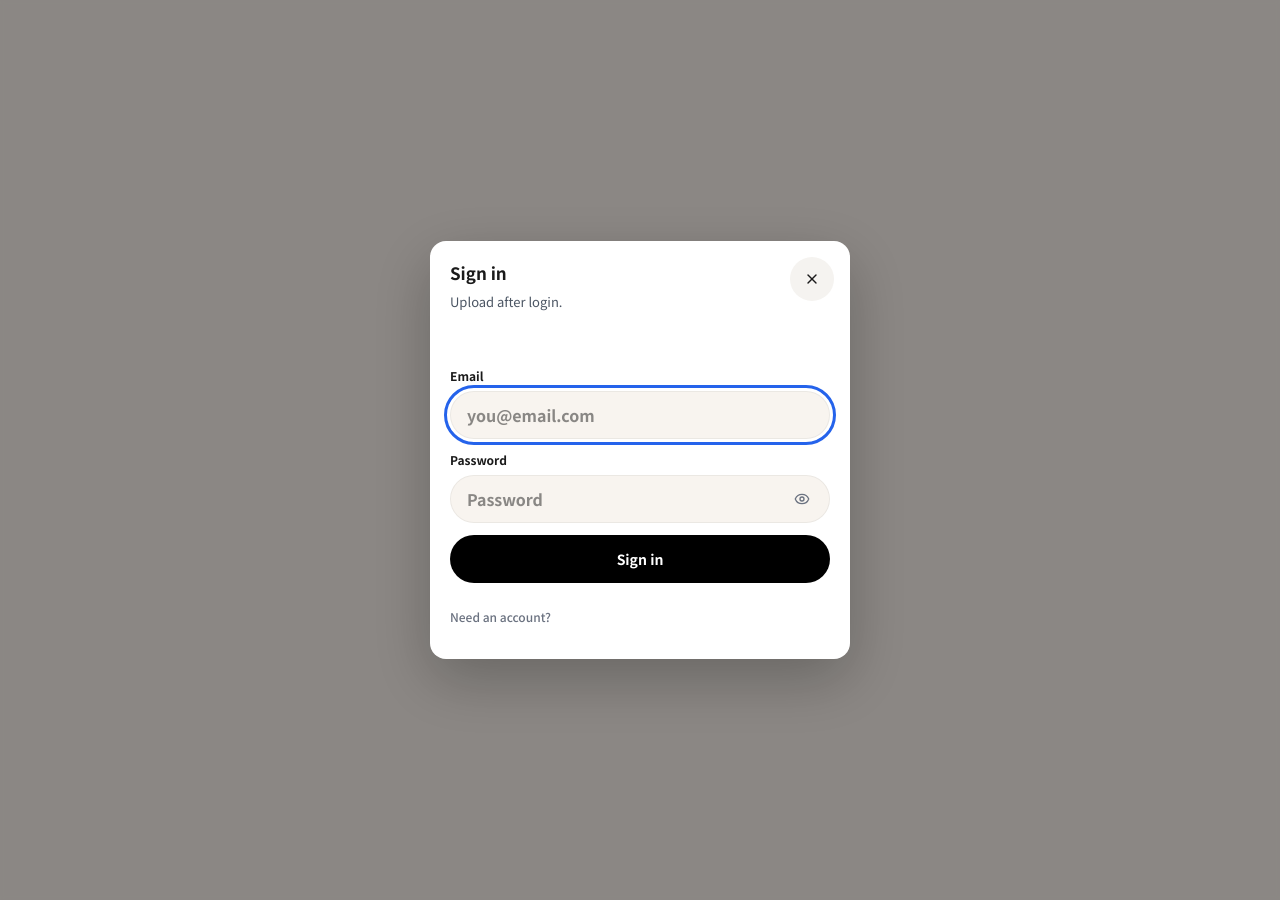
LoginGateDialog focus stability › keeps email focus after submit error and continues typing
Type "ok@example.com" into the field labelled "Email". click: (640, 415)
box: [450, 391, 830, 439]
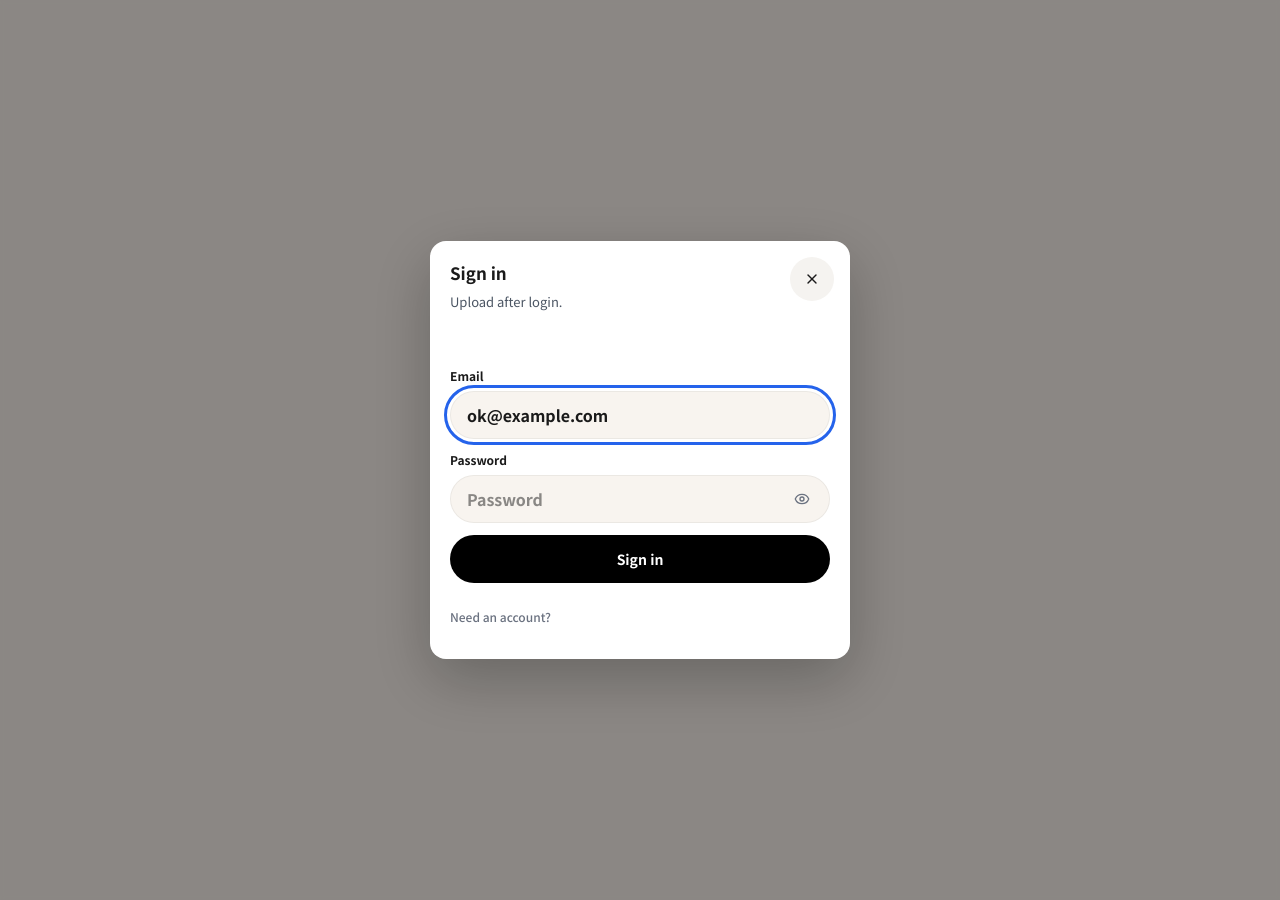
Type "secret12" into the password field labelled "Password". click: (640, 499)
box: [450, 475, 830, 523]
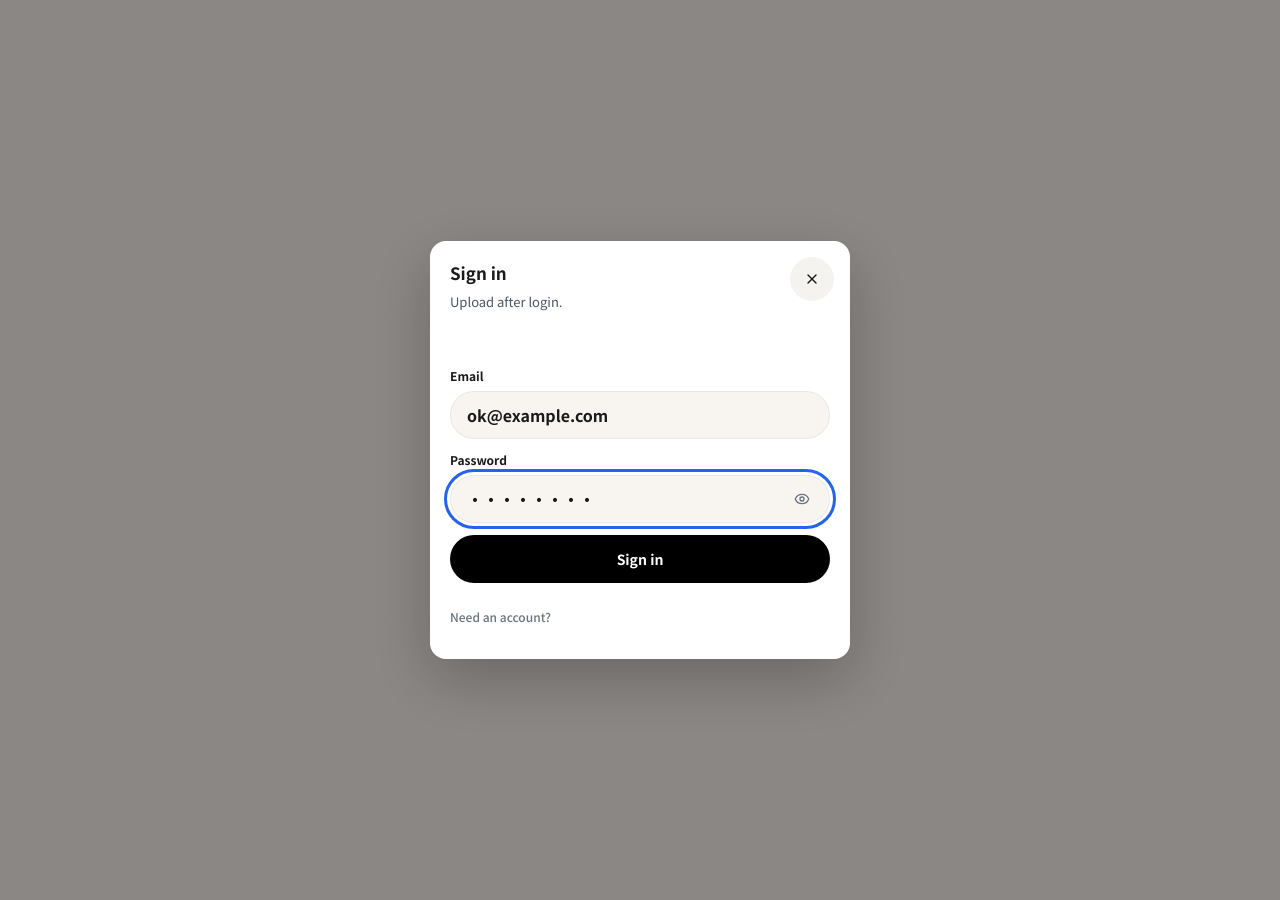
Click the button "Sign in". click: (640, 559)
box: [450, 535, 830, 583]
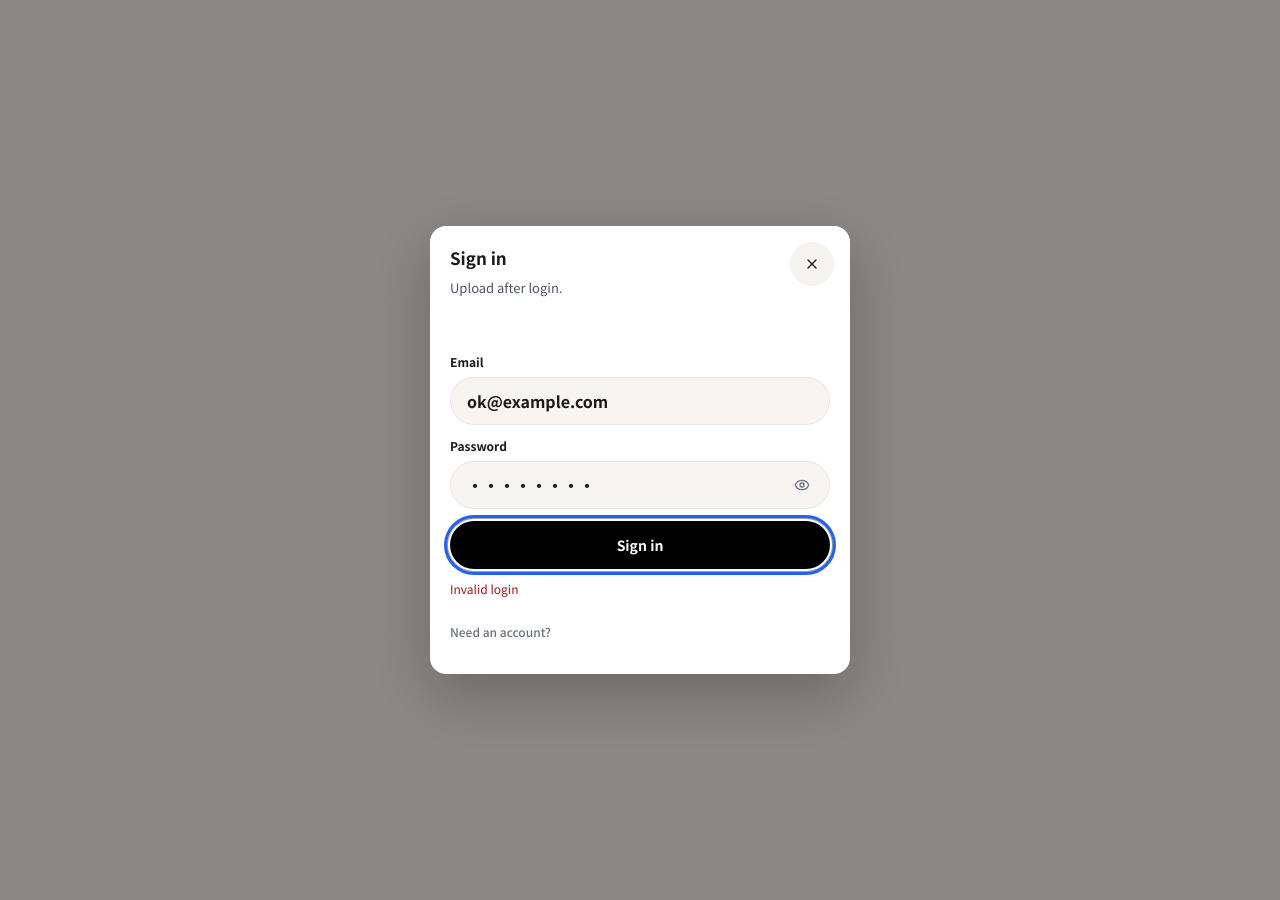
expect the message reads "Invalid login": met, box [450, 580, 518, 597]
Type ".tw" into the field labelled "Email". click: (640, 401)
box: [450, 377, 830, 425]
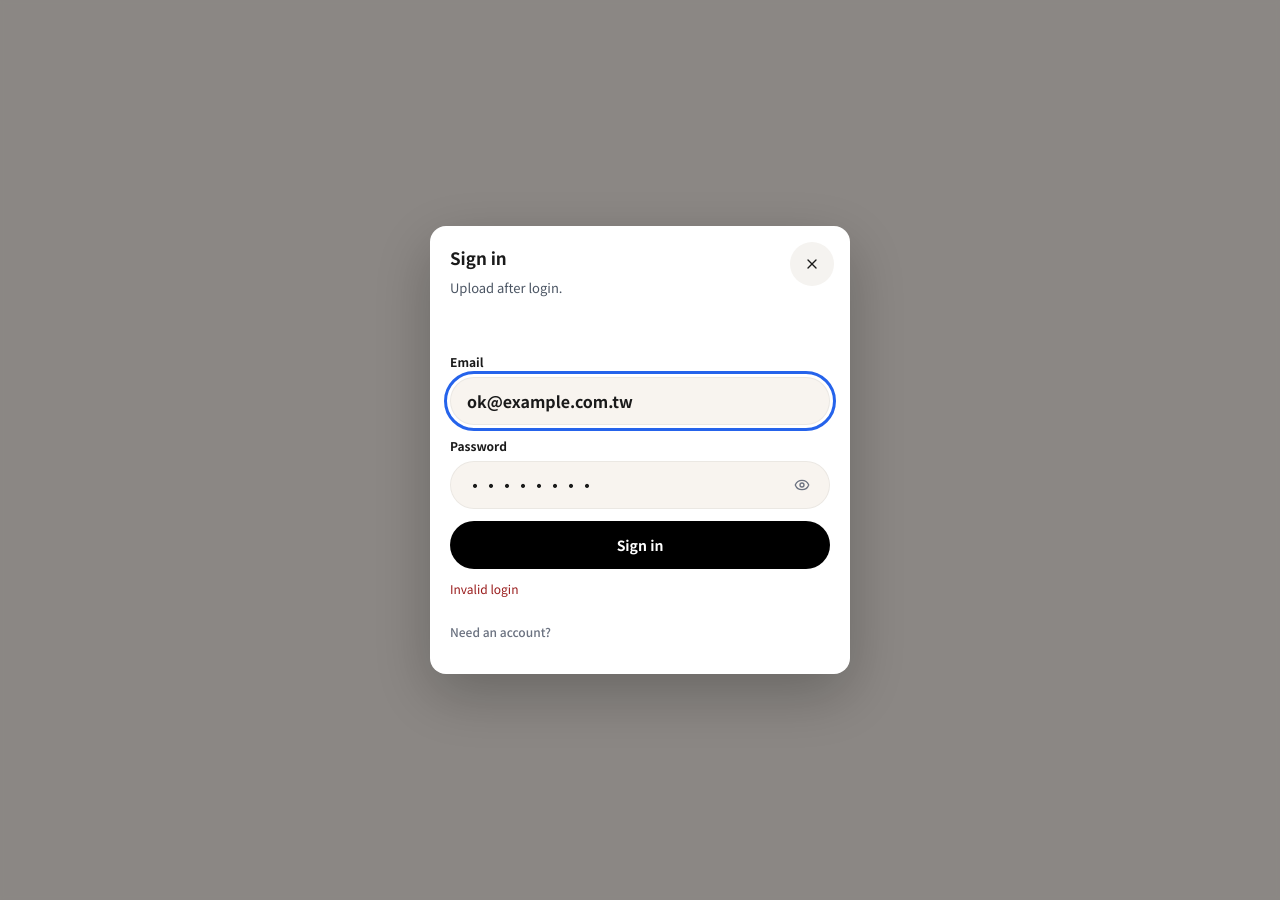
expect the field labelled "Email" holds "ok@example.com.tw": met, box [450, 377, 830, 425]
